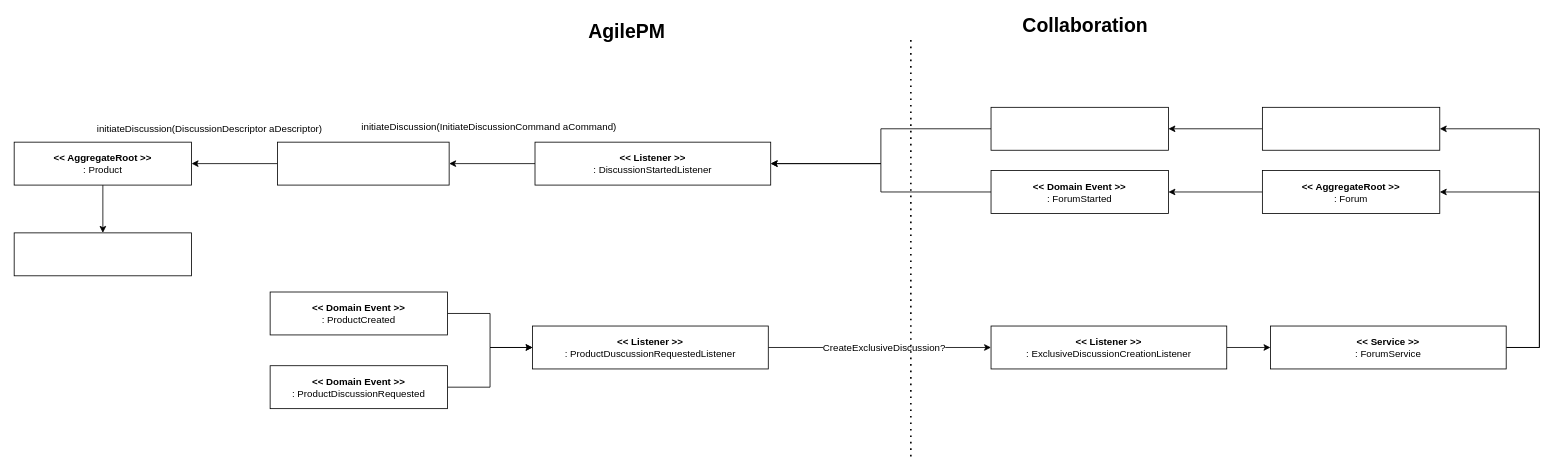
The diagram is 1560 pixels wide and 472 high, and some of its shapes have lost their labels. Here are the shapes that lost their labels. From the top down, the centre of each, then its label:
pixel 1079 128: << Domain Event >> : DiscussionStarted
pixel 1351 128: << Aggregate Root >> : Discussion
pixel 363 163: << Service >> : ProductService
pixel 102 254: << Domain Event >> : ProductDiscussionInitiated
